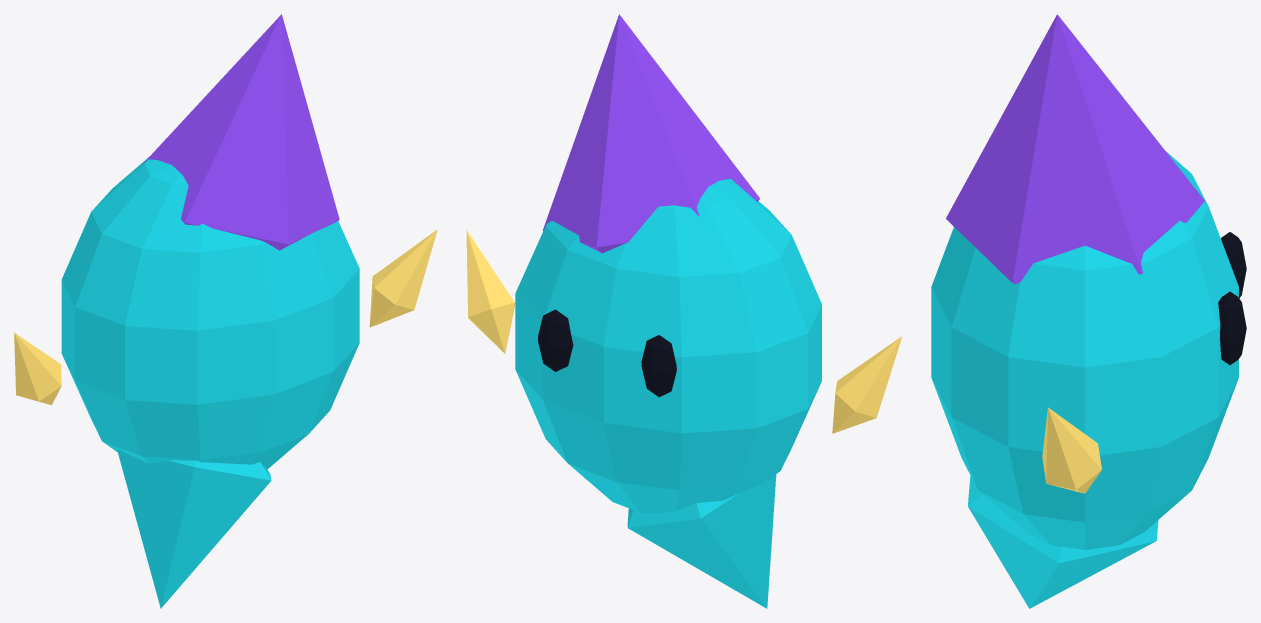
Rendered from wisp.glb.
3 views of the same model, side by side, from view 1: azimuth 30°, elevation 25°; view 2: azimuth 150°, elevation 25°; view 3: azimuth 270°, elevation 25° (orthographic). The views are drawn at different scales.
Parts seen in each view (by area): view 1: wisp; view 2: wisp; view 3: wisp.
Part boxes in pixels (x1=…): wisp: x1=14, y1=14, x2=437, y2=608; wisp: x1=466, y1=14, x2=902, y2=608; wisp: x1=931, y1=14, x2=1246, y2=608.
Size of the model in its own units: 0.32 by 0.4 by 0.1699.
1 material, 1 textured.
